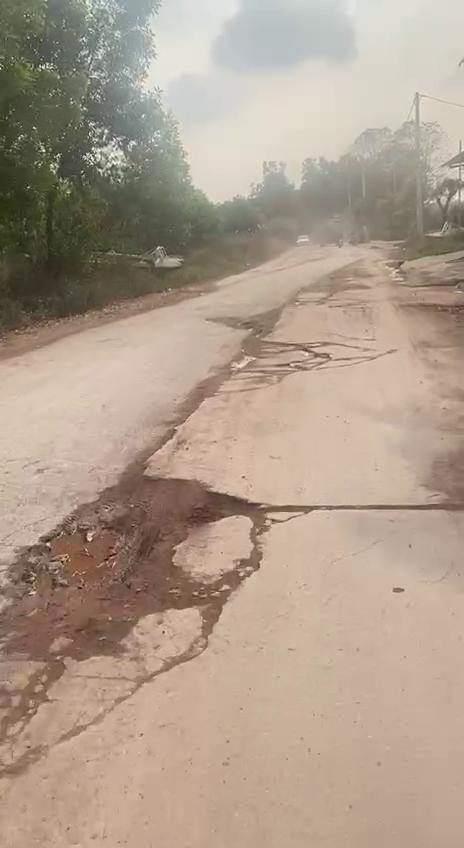pothole: (0, 467, 283, 682)
